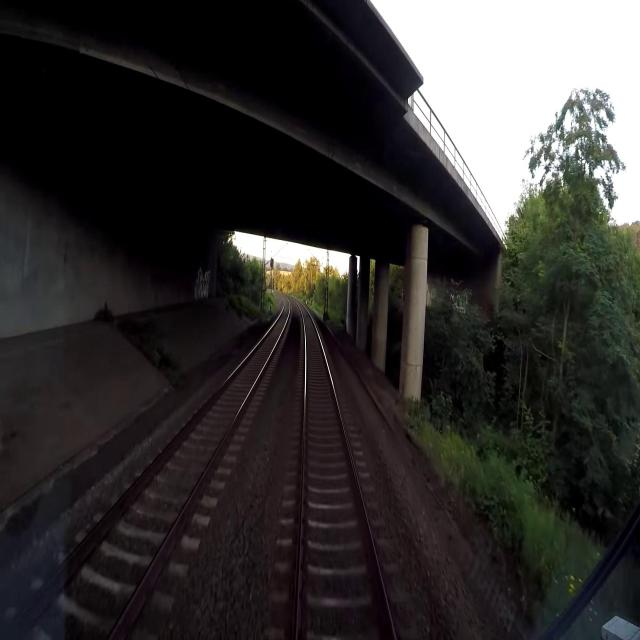rail-track: (5, 297, 288, 639), (298, 305, 391, 639)
